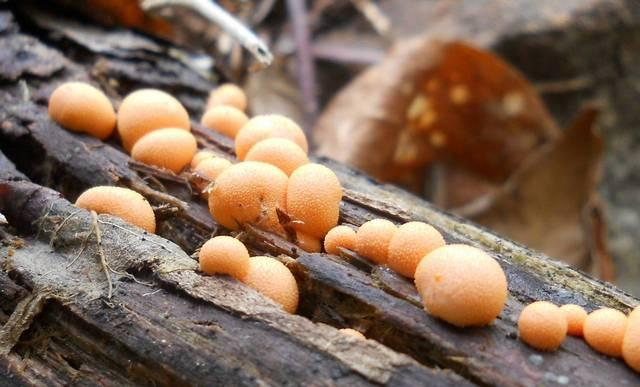poisonous_mushroom: (45, 76, 637, 370), (311, 33, 561, 215), (413, 242, 508, 327), (207, 159, 287, 234), (116, 87, 190, 151), (285, 161, 342, 238), (73, 184, 156, 234), (47, 80, 115, 139), (240, 254, 299, 313), (386, 220, 445, 278), (129, 126, 197, 173), (517, 299, 568, 351), (197, 234, 249, 278), (581, 306, 626, 356)
